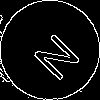N: (25, 25, 83, 83)
